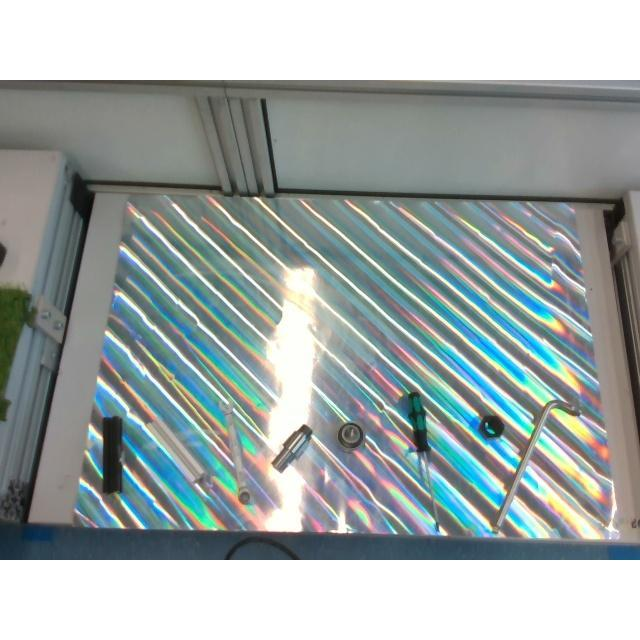AllenKey: (491, 401, 582, 534)
Axis2: (270, 424, 310, 472)
Bearing2: (337, 422, 363, 448)
F20_20_B: (101, 415, 122, 493)
F20_20_G: (146, 418, 208, 486)
M20: (477, 414, 505, 442)
Screwdriver: (408, 392, 440, 532)
Wrench: (216, 400, 250, 504)
